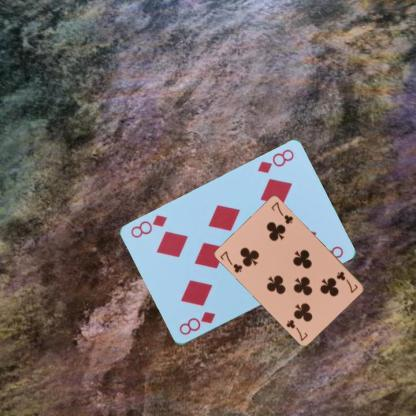7c: (218, 249, 244, 274), (334, 269, 359, 294)
8d: (176, 309, 217, 337), (255, 147, 295, 175)
